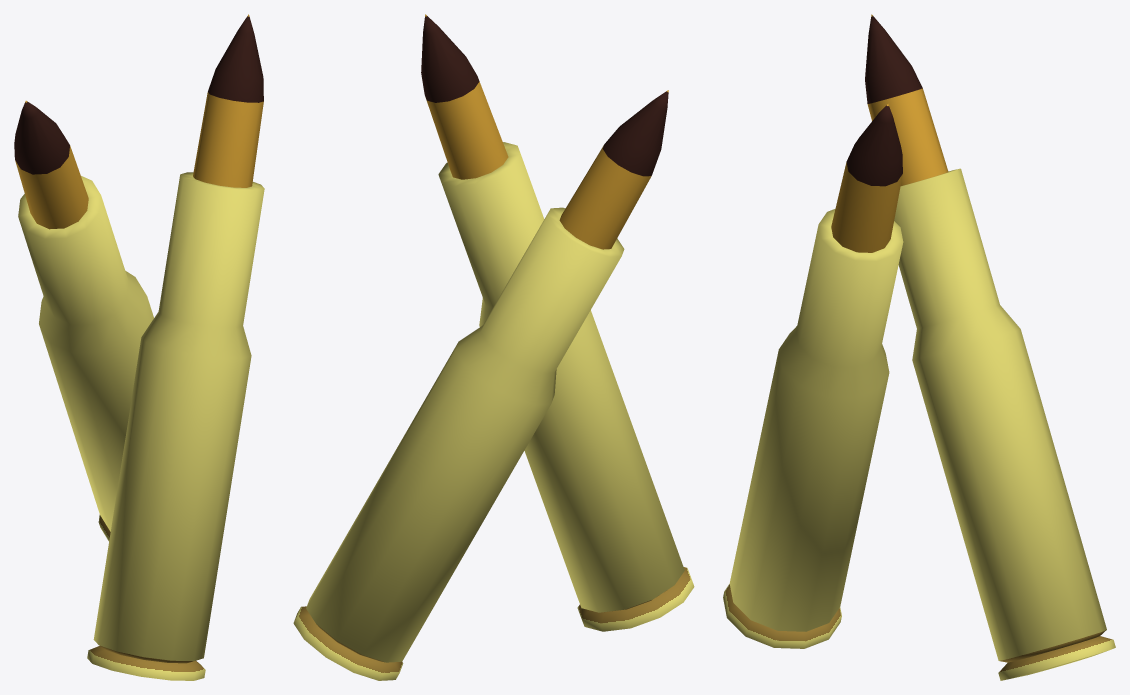
Rendered from PickupAPRounds.fbx.
3 views of the same model, side by side, from view 1: azimuth 30°, elevation 25°; view 2: azimuth 150°, elevation 25°; view 3: azimuth 270°, elevation 25° (orthographic).
Visible parts, largest first — view 1: PickupAPRounds; view 2: PickupAPRounds; view 3: PickupAPRounds.
Boxes of the visible parts, x1,y1,x2,y2 form: PickupAPRounds: [14, 14, 264, 680]; PickupAPRounds: [293, 14, 694, 680]; PickupAPRounds: [723, 14, 1115, 680].
Size of the model in its own units: 0.6311 by 1.32 by 0.7829.
Materials: 1 (1 with a texture image).
